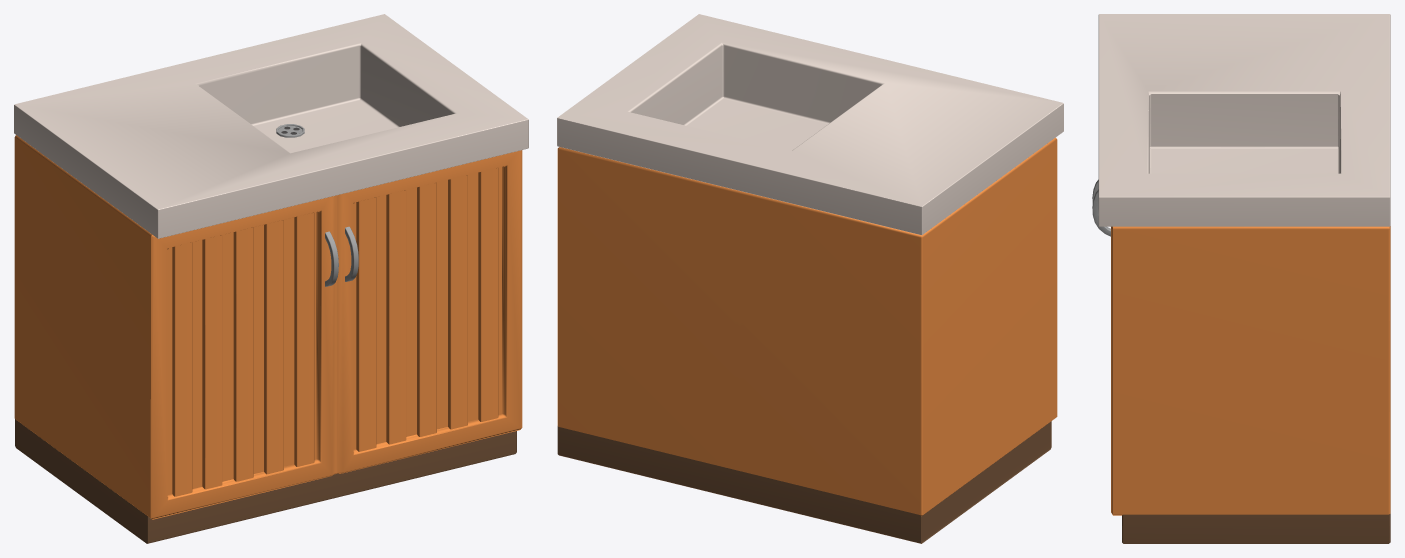
The model's file is Kitchen_Cabinet_3.glb.
3 views of the same model, side by side, from view 1: azimuth 30°, elevation 25°; view 2: azimuth 150°, elevation 25°; view 3: azimuth 270°, elevation 25° (orthographic). The views are drawn at different scales.
Visible parts, largest first — view 1: Kitchen_Cabinet_3; view 2: Kitchen_Cabinet_3; view 3: Kitchen_Cabinet_3.
Boxes of the visible parts, box(x1,y1,x2,y2) form: Kitchen_Cabinet_3: box(14, 14, 528, 543); Kitchen_Cabinet_3: box(557, 14, 1063, 543); Kitchen_Cabinet_3: box(1092, 14, 1390, 543).
Bounding box in the file's own units: 1.11 × 0.9776 × 0.7595.
Materials: 1 (1 with a texture image).
